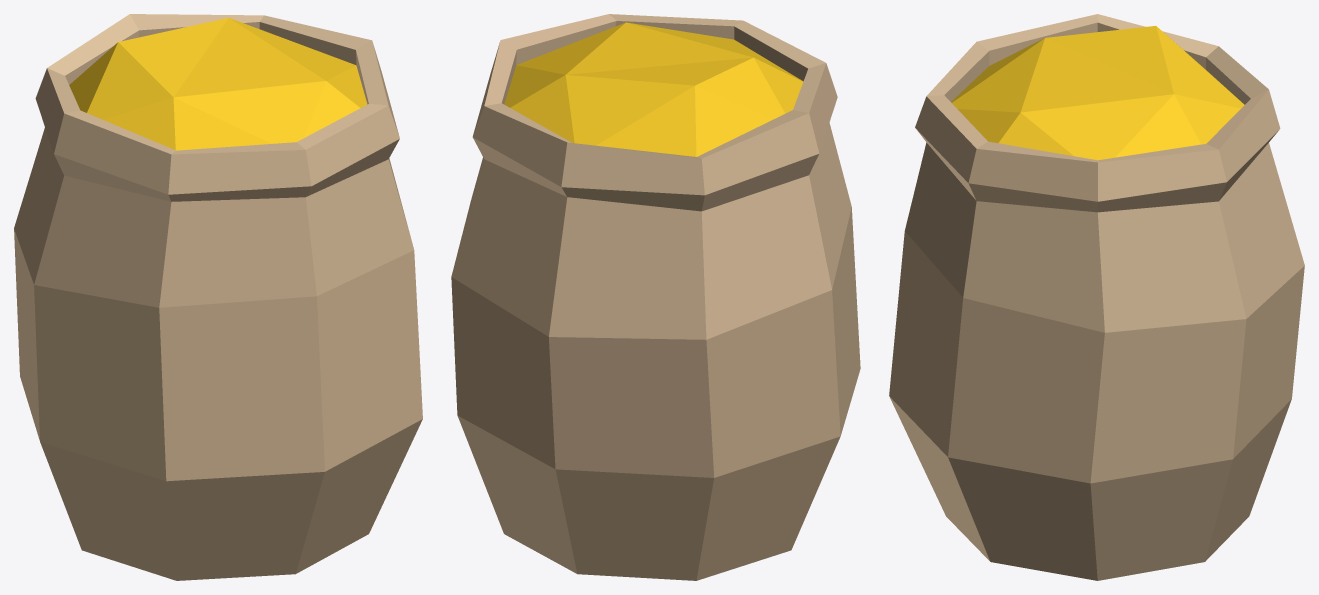
Rendered from egypt-spice-big.glb.
The picture shows the model from 3 angles, left to right: view 1: azimuth 30°, elevation 25°; view 2: azimuth 150°, elevation 25°; view 3: azimuth 270°, elevation 25°; orthographic projection. The views are drawn at different scales.
Parts seen in each view (by area): view 1: egypt-spice-big; view 2: egypt-spice-big; view 3: egypt-spice-big.
Part boxes in pixels (x1,y1,x2,y2): egypt-spice-big: (14,14,422,580); egypt-spice-big: (451,14,860,580); egypt-spice-big: (889,14,1304,580).
Bounding box in the file's own units: 0.866 × 1.07 × 0.883.
1 material, 1 textured.
